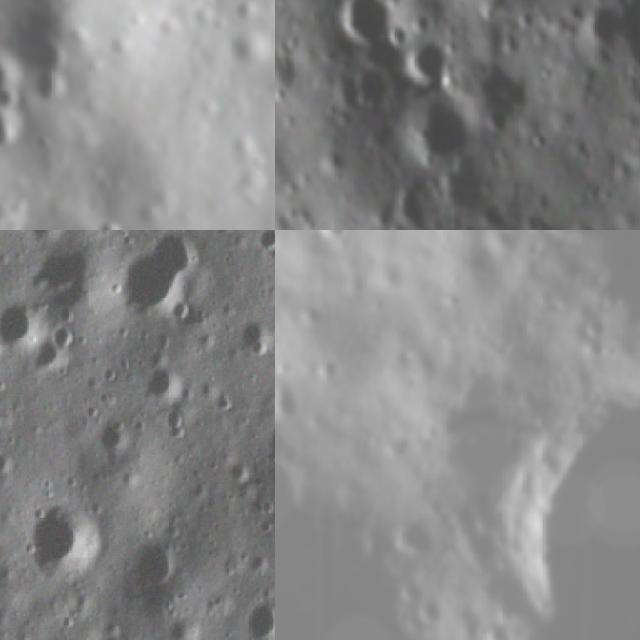crater: (482, 370, 640, 625), (275, 435, 453, 640), (31, 496, 109, 579), (120, 238, 203, 314), (401, 95, 480, 172), (432, 161, 499, 230), (389, 511, 447, 568), (329, 0, 393, 48), (403, 37, 449, 93), (0, 97, 33, 173), (275, 458, 306, 523), (0, 299, 46, 338), (0, 39, 24, 101), (299, 298, 334, 334), (250, 599, 275, 640), (311, 230, 359, 247), (247, 327, 275, 353), (480, 618, 513, 640), (168, 408, 189, 441), (52, 321, 77, 346), (263, 230, 275, 248)
